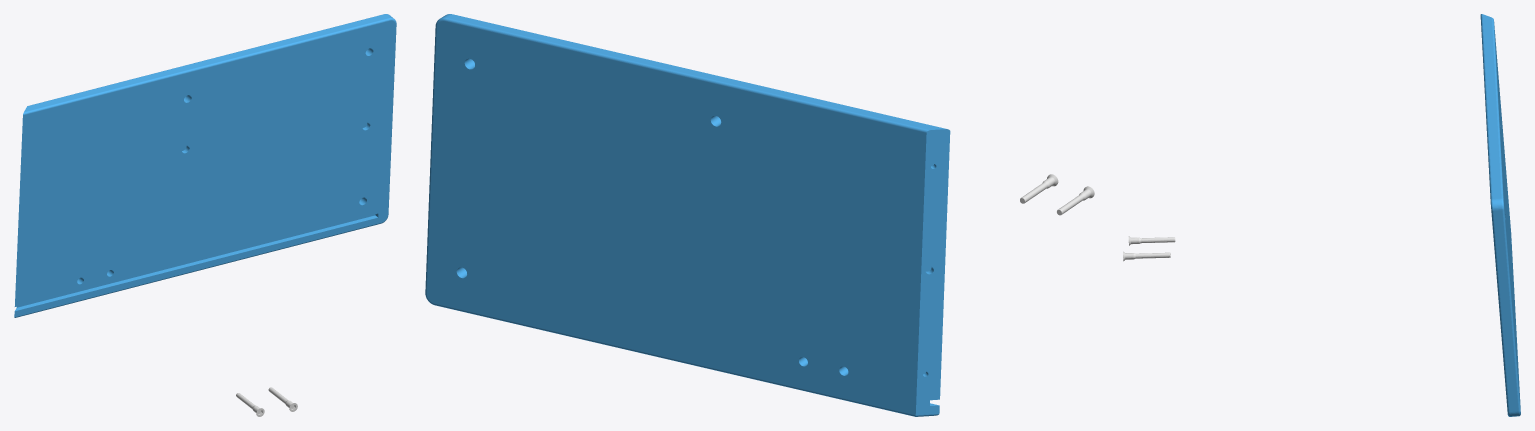
File: step 555.glb
3 renders of one model, left to right at view 1: azimuth 30°, elevation 25°; view 2: azimuth 150°, elevation 25°; view 3: azimuth 270°, elevation 25°, orthographic. The views are drawn at different scales.
Parts seen in each view (by area): view 1: 7; view 2: 7; view 3: 7.
Part boxes in pixels (bbox=[...]): 7: bbox=[14, 14, 396, 317]; 7: bbox=[425, 14, 950, 416]; 7: bbox=[1480, 14, 1520, 416].
Bounding box in the file's own units: 2.46 × 1.32 × 2.18.
